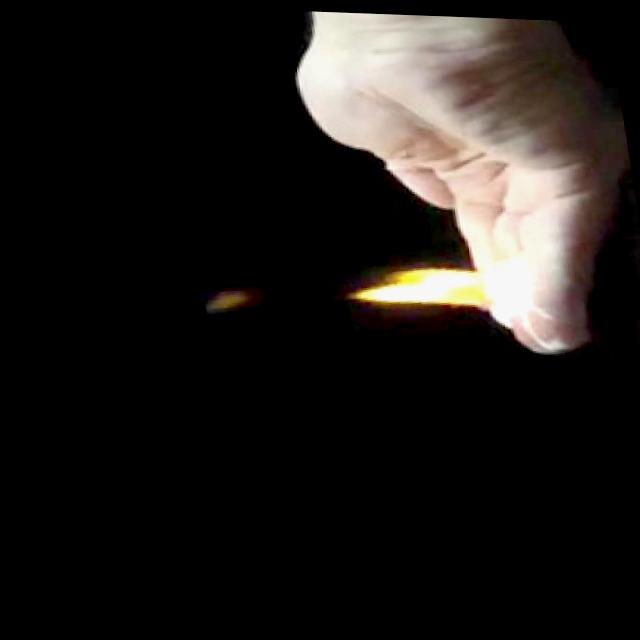Fire: (339, 249, 546, 330)
